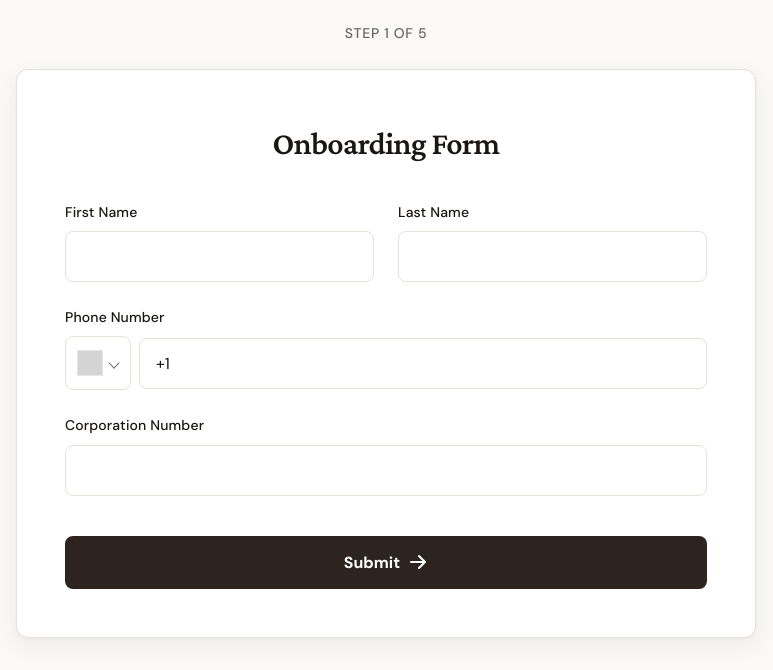
Scenario: OnboardingForm › 05 - validates corporation number length
The width and height of the screenshot is (773, 670).
Type "12345" into the field labelled "Corporation Number" at point(386, 470), box [65, 445, 707, 496]
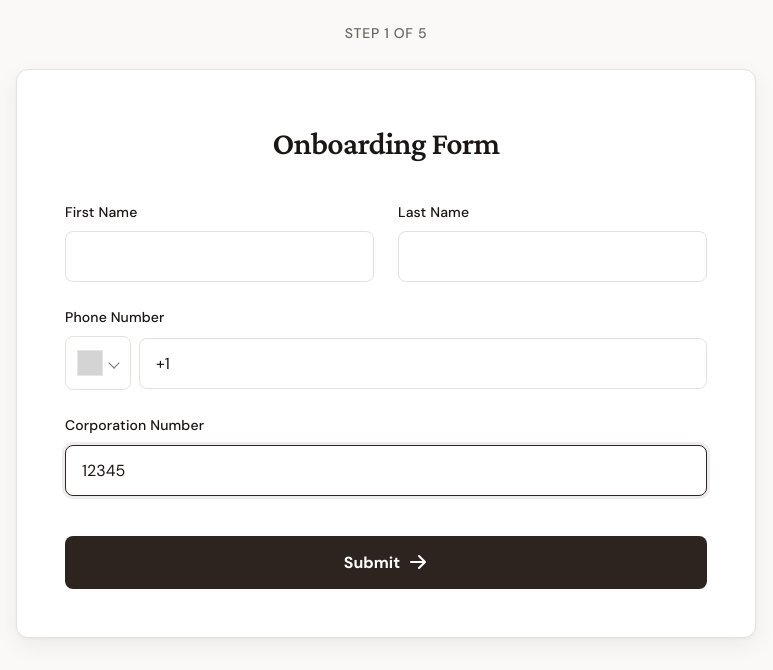
Press Tab
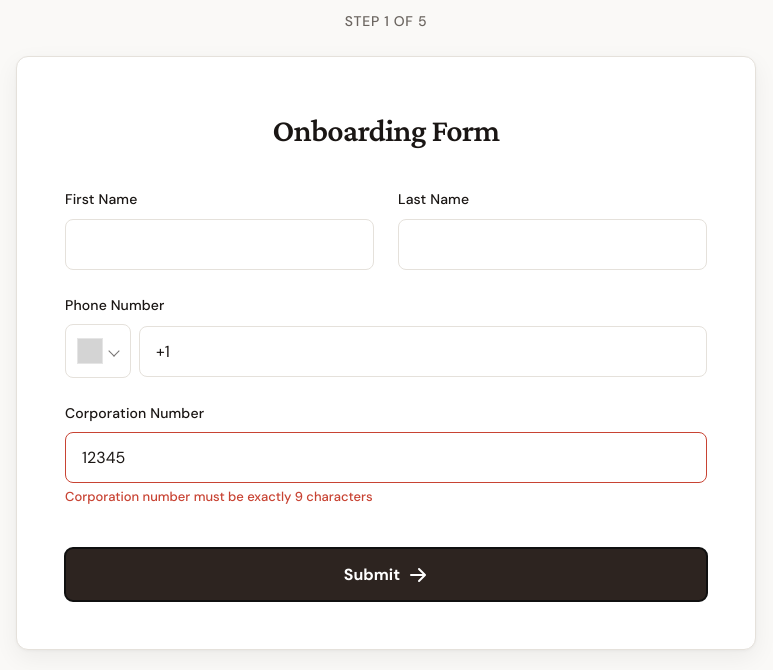
Expected: the text "Corporation number must be exactly 9 characters" is shown, [65, 488, 373, 506]
